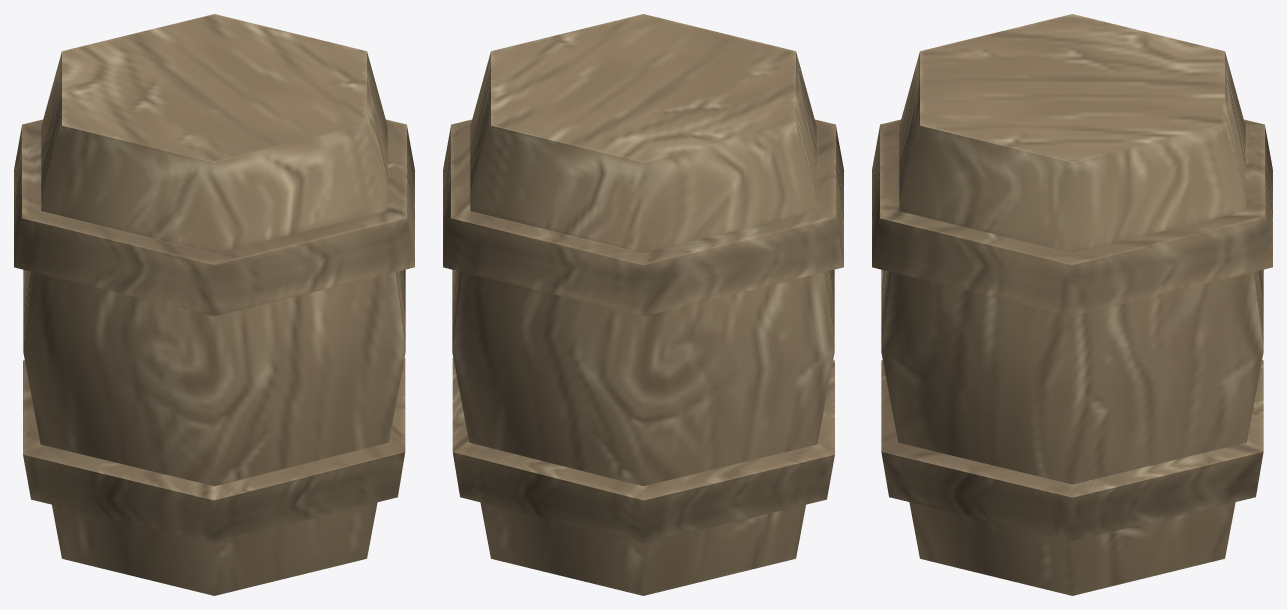
File: Egypt_Village_Props_01.FBX
3 renders of one model, left to right at view 1: azimuth 30°, elevation 25°; view 2: azimuth 150°, elevation 25°; view 3: azimuth 270°, elevation 25°, orthographic.
Visible parts, largest first — view 1: Egypt_Village_Props_01; view 2: Egypt_Village_Props_01; view 3: Egypt_Village_Props_01.
Part boxes in pixels (x1,y1,x2,y2): Egypt_Village_Props_01: (14, 14, 414, 595); Egypt_Village_Props_01: (443, 14, 843, 595); Egypt_Village_Props_01: (872, 14, 1272, 595).
Size of the model in its own units: 48.17 by 49.73 by 41.72.
